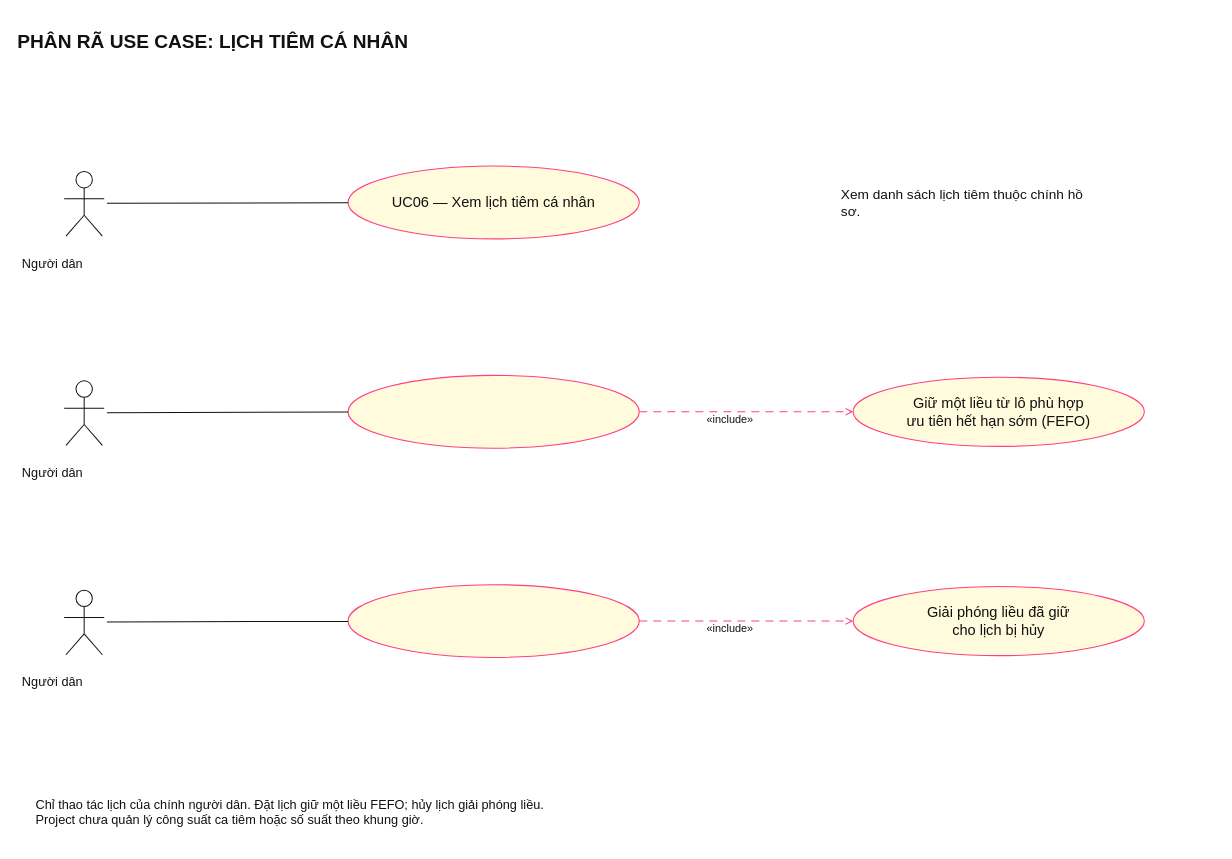
This 1232x859 diagram has some shape labels left out. The shapes that lost their labels are listed below. From the top down, each one's box as (x1, y1, x2, y2) in pixels, then its label:
(347, 374, 639, 448): UC07 — Đăng ký lịch tiêm cá nhân
(347, 584, 639, 658): UC08 — Hủy lịch tiêm cá nhân
